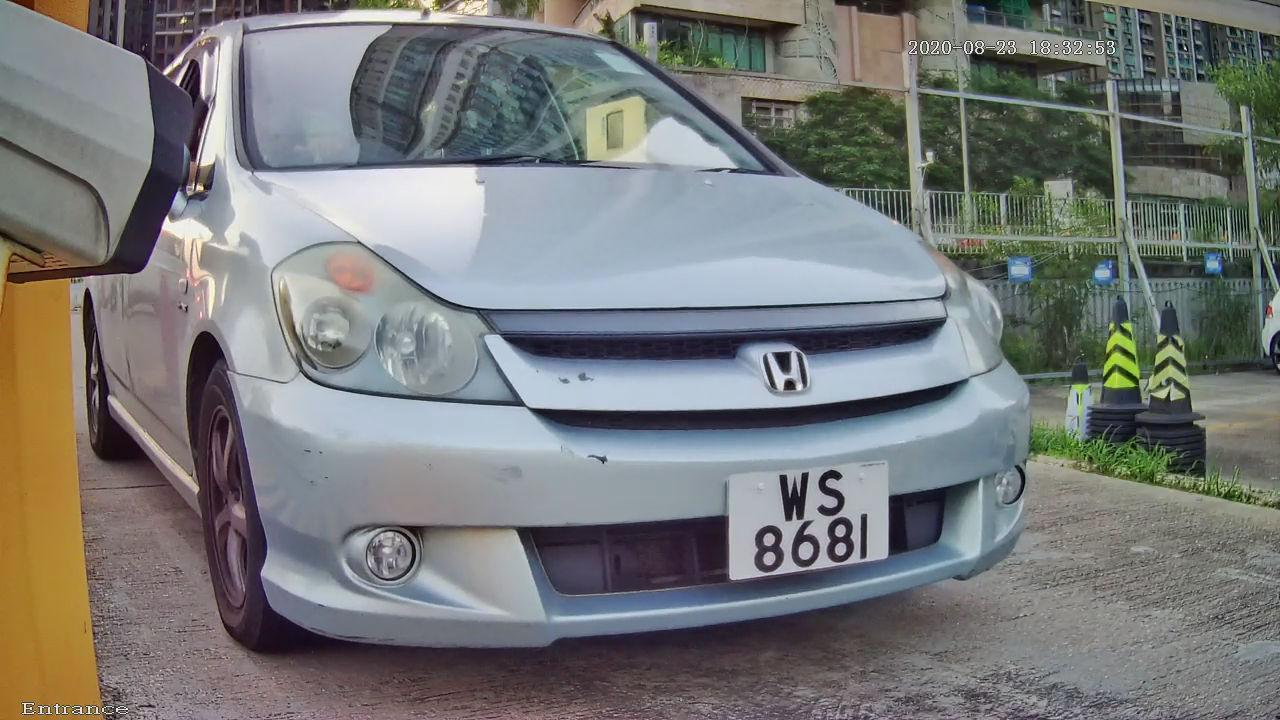License Plate: (671, 402, 953, 627)
